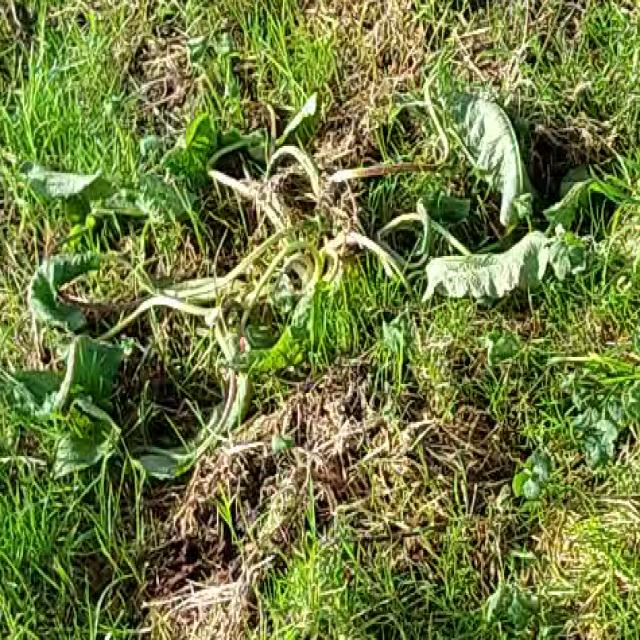organic waste: (7, 90, 632, 474)
